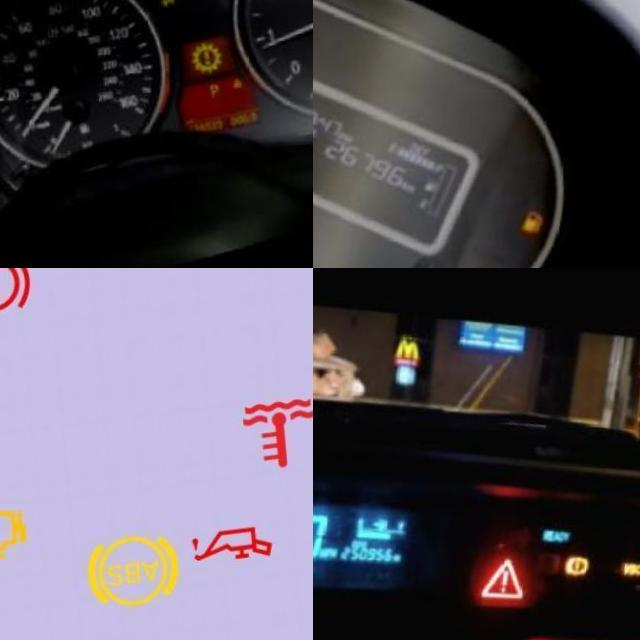Low fuel level: (502, 219, 537, 258), (61, 129, 75, 143)
